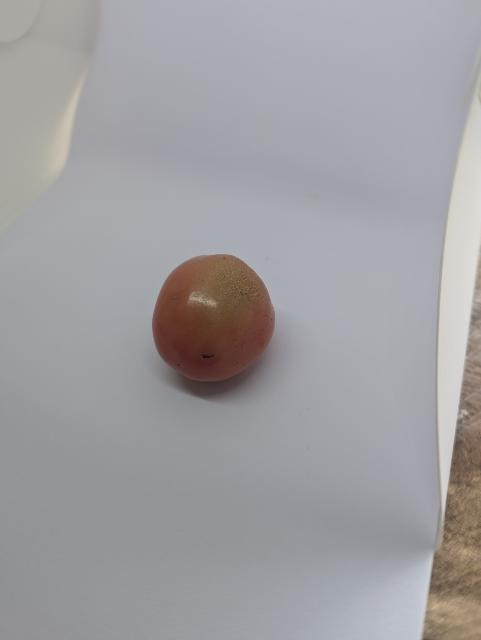turning: (148, 248, 281, 390)
